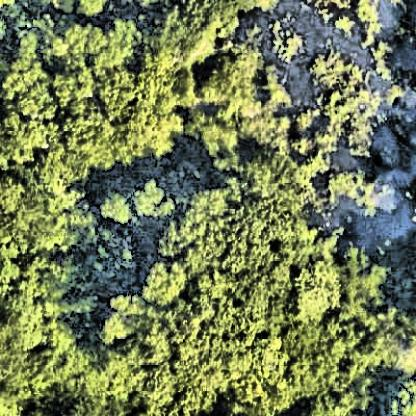tree-top: (182, 190, 307, 336), (137, 263, 257, 401), (10, 71, 107, 163), (112, 66, 184, 159), (198, 46, 273, 115), (51, 22, 139, 77), (1, 173, 53, 252), (245, 145, 306, 210), (292, 256, 350, 324), (147, 1, 210, 60), (141, 261, 193, 310), (131, 178, 177, 228), (101, 190, 129, 228)
